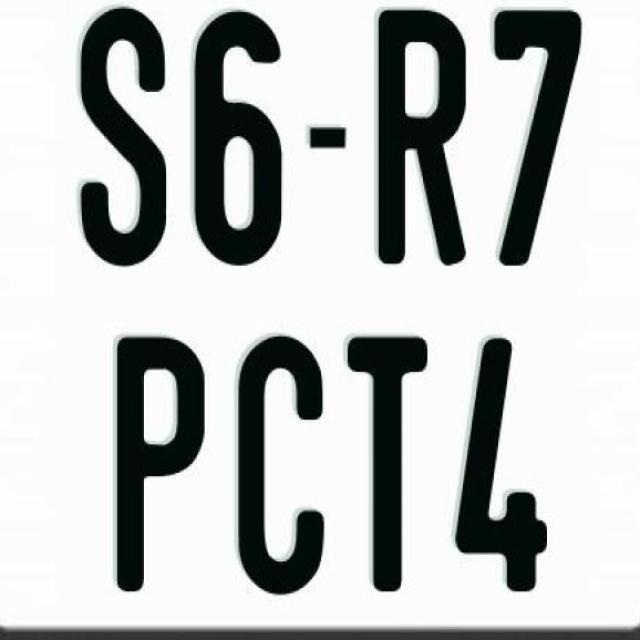license-plate: (10, 0, 639, 624)
